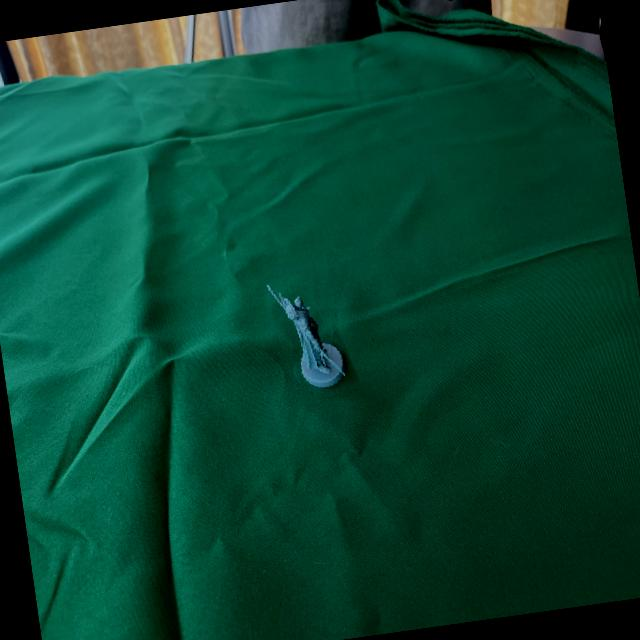isis_follower: (262, 255, 356, 407)
